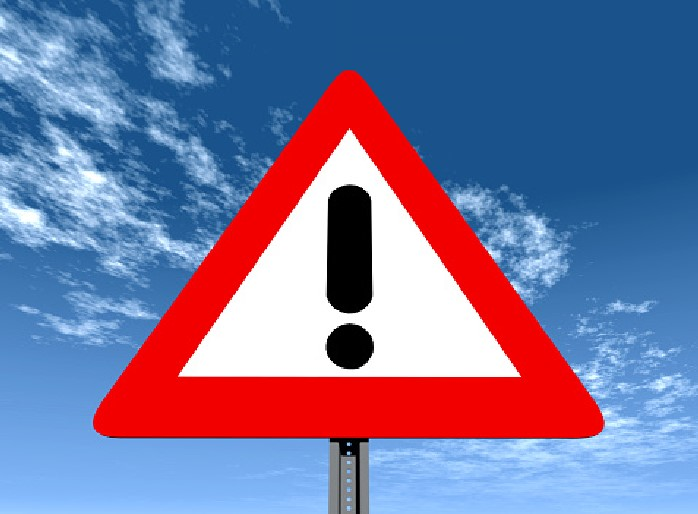Danger: (90, 64, 609, 451)
